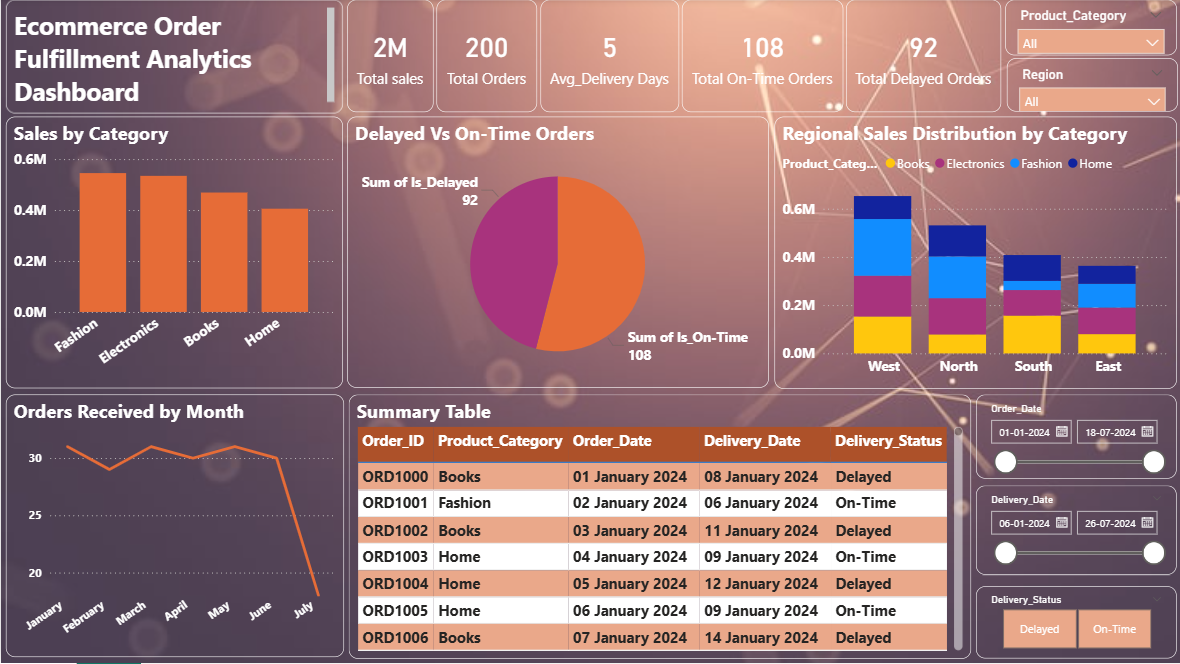

What the dashboard file says about the page in this screenshot:
{"tool":"powerbi","page":{"name":"Page 1","canvas":[1280,720],"ordinal":0},"visuals":[{"type":"lineChart","title":"Orders Received by Month","fields":{"Category":["Ecommerce_Order_Fulfilment_CLEA.Order_Date.Variation.Date Hierarchy.Month"],"Y":["CountNonNull(Ecommerce_Order_Fulfilment_CLEA.Order_ID)"]},"box":[6,430,366,284],"z":0},{"type":"columnChart","title":"Sales by Category","fields":{"Category":["Ecommerce_Order_Fulfilment_CLEA.Product_Category"],"Y":["Sum(Ecommerce_Order_Fulfilment_CLEA.Sales_Amount)"]},"box":[5.6,128.3,365,293.9],"z":1000},{"type":"columnChart","title":"Regional Sales Distribution by Category","fields":{"Category":["Ecommerce_Order_Fulfilment_CLEA.Region"],"Y":["Sum(Ecommerce_Order_Fulfilment_CLEA.Sales_Amount)"],"Series":["Ecommerce_Order_Fulfilment_CLEA.Product_Category"]},"box":[838.2,128.2,435.5,294.5],"z":2000},{"type":"pieChart","title":"Delayed Vs On-Time Orders","fields":{"Y":["Sum(Ecommerce_Order_Fulfilment_CLEA.Is_On-Time)","Sum(Ecommerce_Order_Fulfilment_CLEA.Is_Delayed)"]},"box":[375,128.3,456.7,293.3],"z":3000},{"type":"tableEx","title":"Summary Table","fields":{"Values":["Ecommerce_Order_Fulfilment_CLEA.Order_ID","Ecommerce_Order_Fulfilment_CLEA.Product_Category","Ecommerce_Order_Fulfilment_CLEA.Order_Date","Ecommerce_Order_Fulfilment_CLEA.Delivery_Date","Ecommerce_Order_Fulfilment_CLEA.Delivery_Status"]},"box":[376,430,674,286],"z":4000},{"type":"slicer","fields":{"Values":["Ecommerce_Order_Fulfilment_CLEA.Order_Date"]},"box":[1056.4,430,217.3,90.9],"z":5000},{"type":"slicer","fields":{"Values":["Ecommerce_Order_Fulfilment_CLEA.Delivery_Date"]},"box":[1056.4,528.2,217.3,96.4],"z":6000},{"type":"slicer","fields":{"Values":["Ecommerce_Order_Fulfilment_CLEA.Delivery_Status"]},"box":[1056.4,636.4,217.3,78.2],"z":7000},{"type":"slicer","fields":{"Values":["Ecommerce_Order_Fulfilment_CLEA.Product_Category"]},"box":[1088.1,1.9,185.6,60],"z":8000},{"type":"slicer","fields":{"Values":["Ecommerce_Order_Fulfilment_CLEA.Region"]},"box":[1088.2,65.9,185.3,57.6],"z":9000},{"type":"card","fields":{"Values":["Ecommerce_Order_Fulfilment_CLEA.Total Delayed Orders"]},"box":[915.6,1.9,168.1,121.9],"z":10000},{"type":"card","fields":{"Values":["Ecommerce_Order_Fulfilment_CLEA.Total On-Time Orders"]},"box":[737.6,1.9,174.8,121.9],"z":11000},{"type":"card","fields":{"Values":["Ecommerce_Order_Fulfilment_CLEA.Total Orders"]},"box":[471.9,2.4,109,121.9],"z":12000},{"type":"card","fields":{"Values":["Ecommerce_Order_Fulfilment_CLEA.Total sales"]},"box":[374.8,1.9,93.8,121.9],"z":13000},{"type":"card","fields":{"Values":["Ecommerce_Order_Fulfilment_CLEA.Avg_Delivery Duration In Days"]},"box":[584.3,1.9,150,121.9],"z":14000},{"type":"textbox","box":[5.6,1.7,365,122.8],"z":15000}]}

Visuals, with their boxes in screenshot pixels (x1, y1, x2, y2), scaled from the page's 1280x720 canvas onto the 1180x664 screenshot:
"Orders Received by Month" lineChart: [left=6, top=397, right=343, bottom=658]
"Sales by Category" columnChart: [left=5, top=118, right=342, bottom=389]
"Regional Sales Distribution by Category" columnChart: [left=773, top=118, right=1174, bottom=390]
"Delayed Vs On-Time Orders" pieChart: [left=346, top=118, right=767, bottom=389]
"Summary Table" tableEx: [left=347, top=397, right=968, bottom=660]
slicer - Ecommerce_Order_Fulfilment_CLEA.Order_Date: [left=974, top=397, right=1174, bottom=480]
slicer - Ecommerce_Order_Fulfilment_CLEA.Delivery_Date: [left=974, top=487, right=1174, bottom=576]
slicer - Ecommerce_Order_Fulfilment_CLEA.Delivery_Status: [left=974, top=587, right=1174, bottom=659]
slicer - Ecommerce_Order_Fulfilment_CLEA.Product_Category: [left=1003, top=2, right=1174, bottom=57]
slicer - Ecommerce_Order_Fulfilment_CLEA.Region: [left=1003, top=61, right=1174, bottom=114]
card - Ecommerce_Order_Fulfilment_CLEA.Total Delayed Orders: [left=844, top=2, right=999, bottom=114]
card - Ecommerce_Order_Fulfilment_CLEA.Total On-Time Orders: [left=680, top=2, right=841, bottom=114]
card - Ecommerce_Order_Fulfilment_CLEA.Total Orders: [left=435, top=2, right=536, bottom=115]
card - Ecommerce_Order_Fulfilment_CLEA.Total sales: [left=346, top=2, right=432, bottom=114]
card - Ecommerce_Order_Fulfilment_CLEA.Avg_Delivery Duration In Days: [left=539, top=2, right=677, bottom=114]
textbox: [left=5, top=2, right=342, bottom=115]
